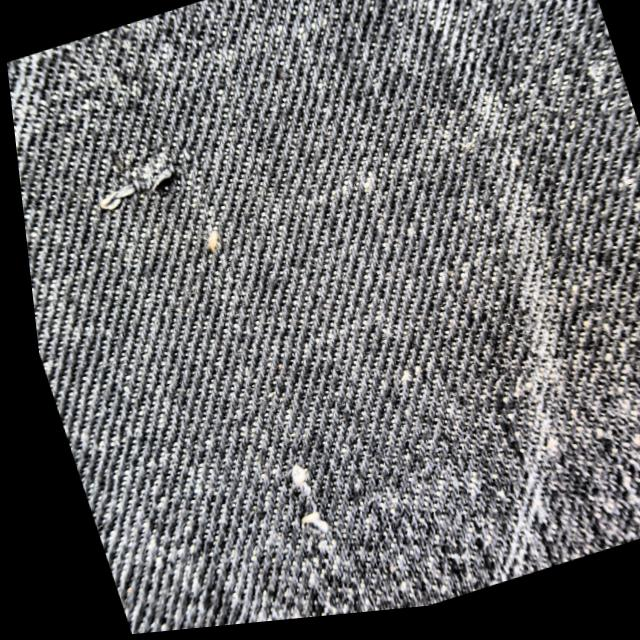Hole: (82, 152, 187, 218), (268, 464, 318, 544), (194, 228, 223, 257)
